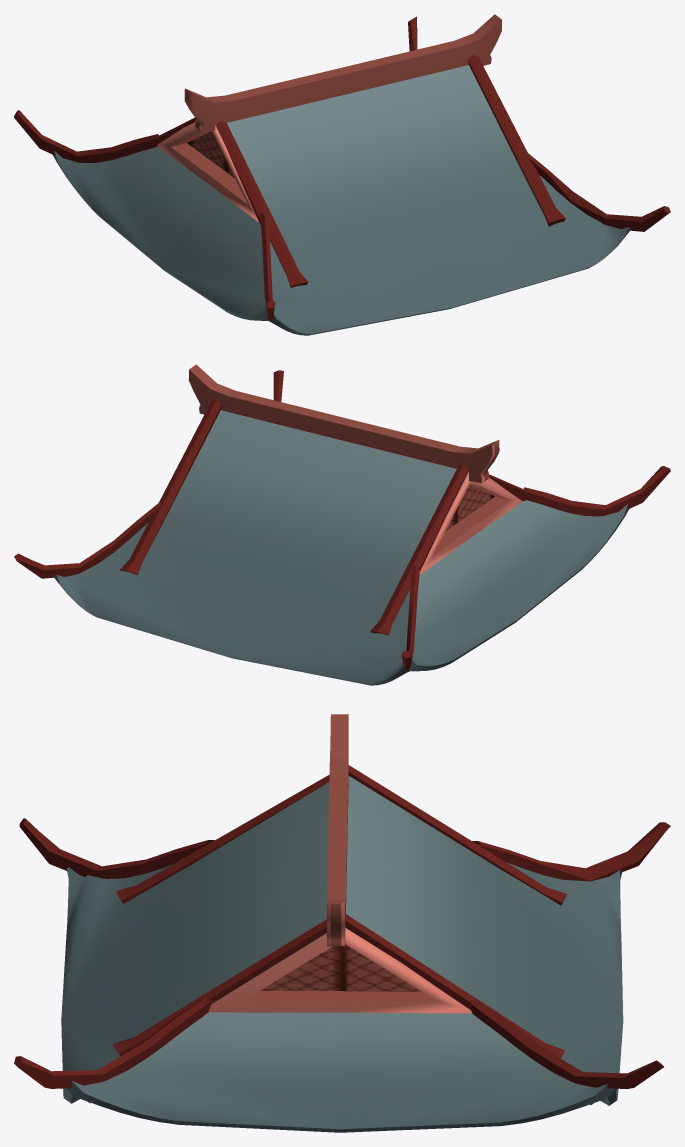
Rendered from roof_sawmill.fbx.
3 renders of one model, top to bottom at view 1: azimuth 30°, elevation 25°; view 2: azimuth 150°, elevation 25°; view 3: azimuth 270°, elevation 25°, orthographic. The views are drawn at different scales.
Parts seen in each view (by area): view 1: roof_sawmill; view 2: roof_sawmill; view 3: roof_sawmill.
Part boxes in pixels (<box>): roof_sawmill: <box>14,14,670,335</box>; roof_sawmill: <box>14,364,670,685</box>; roof_sawmill: <box>14,714,670,1132</box>.
Bounding box in the file's own units: 3.97 × 1.64 × 4.47.
